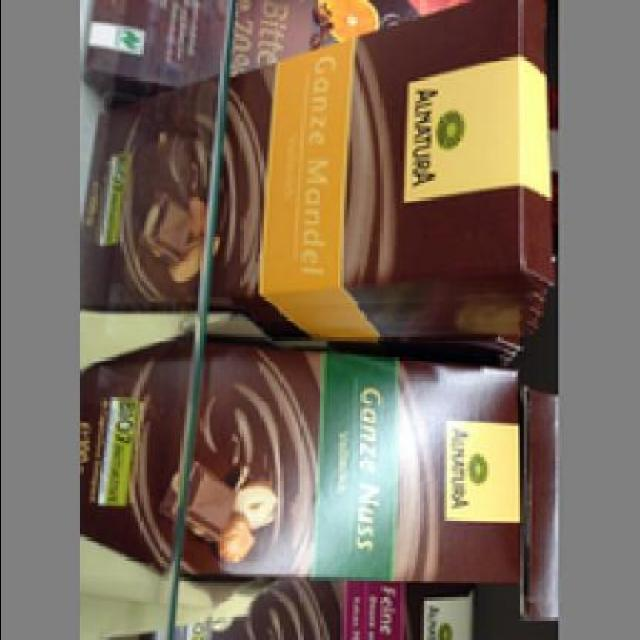Chocolate bar: (92, 2, 554, 306), (86, 340, 520, 583)
